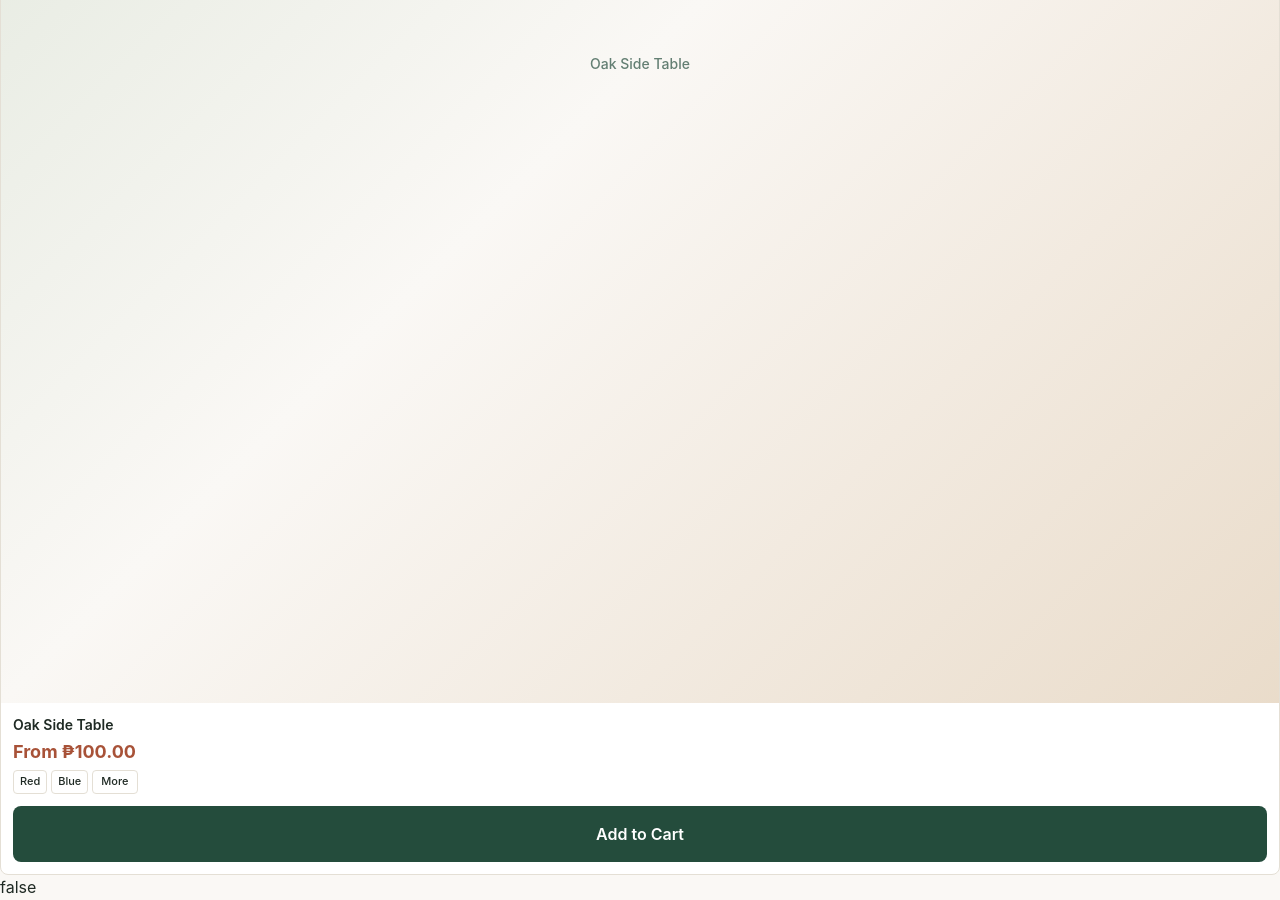
it: ProductCard inline purchase › focuses More when a hidden size still needs selection and adds only the completed SKU
(page scrolled)
Click the button "Blue". click: (70, 782)
box: [51,770,88,794]
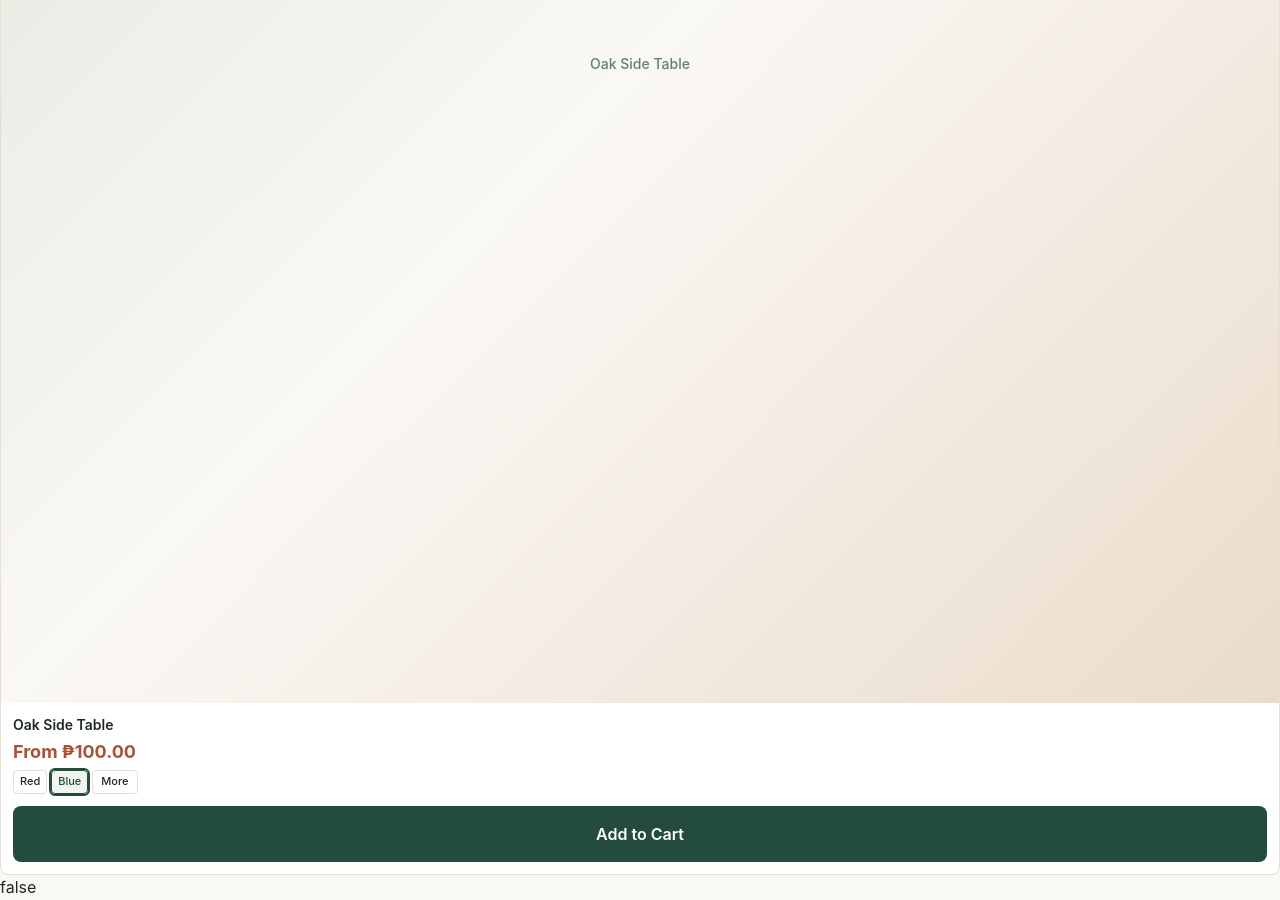
Click the button "Add to Cart". click: (640, 834)
box: [13,806,1267,862]
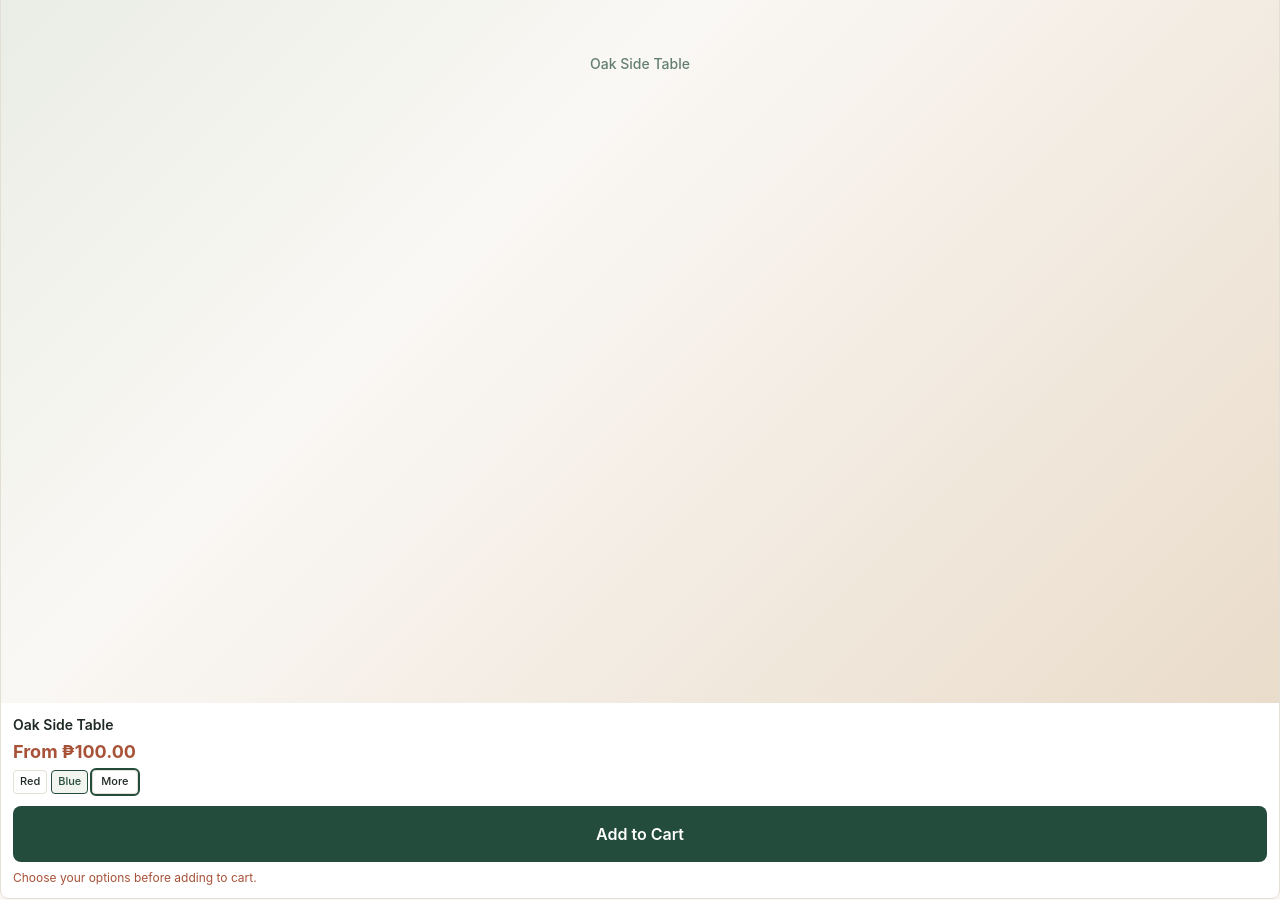
Press Enter
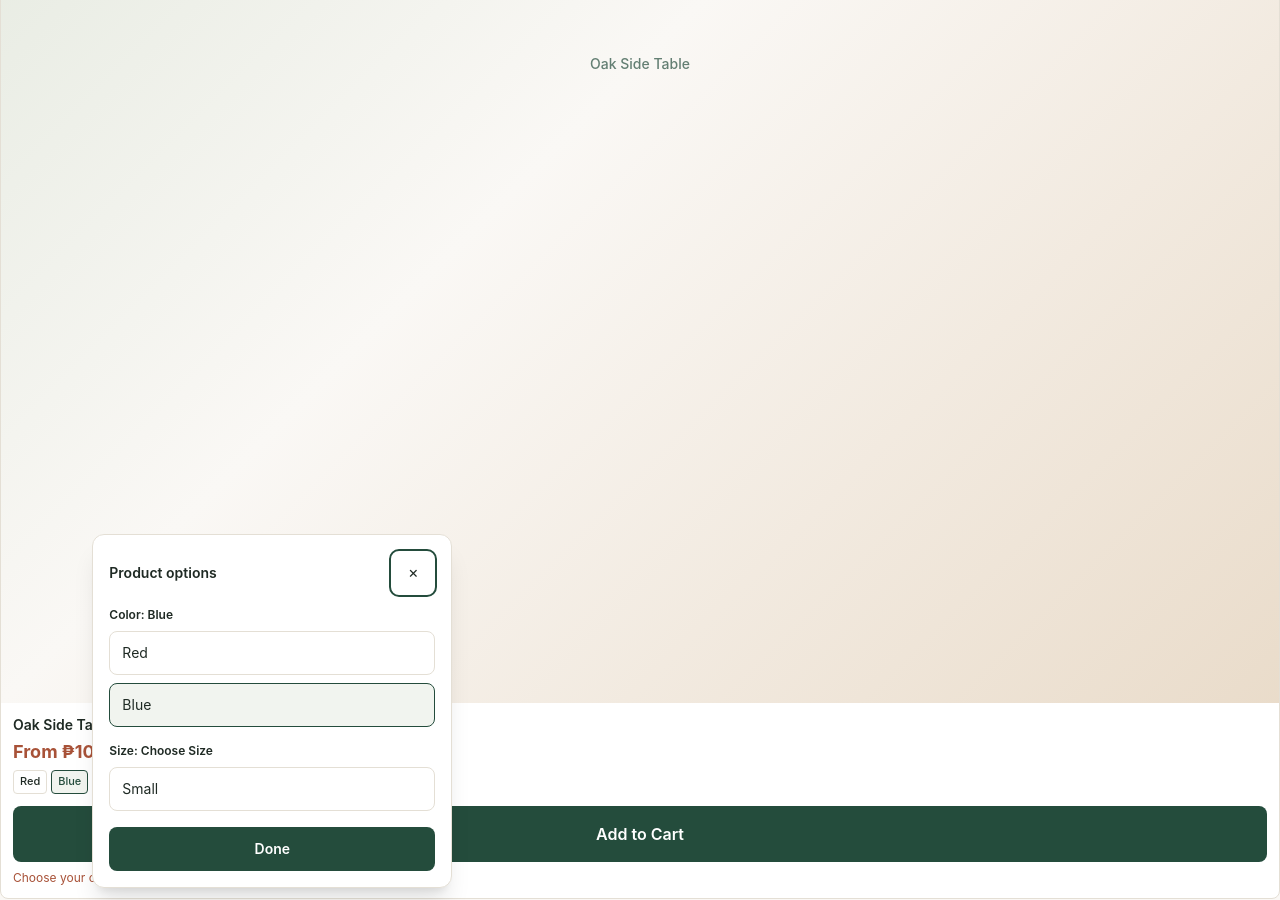
Click the button "Small". click: (140, 788)
box: [109,767,435,811]
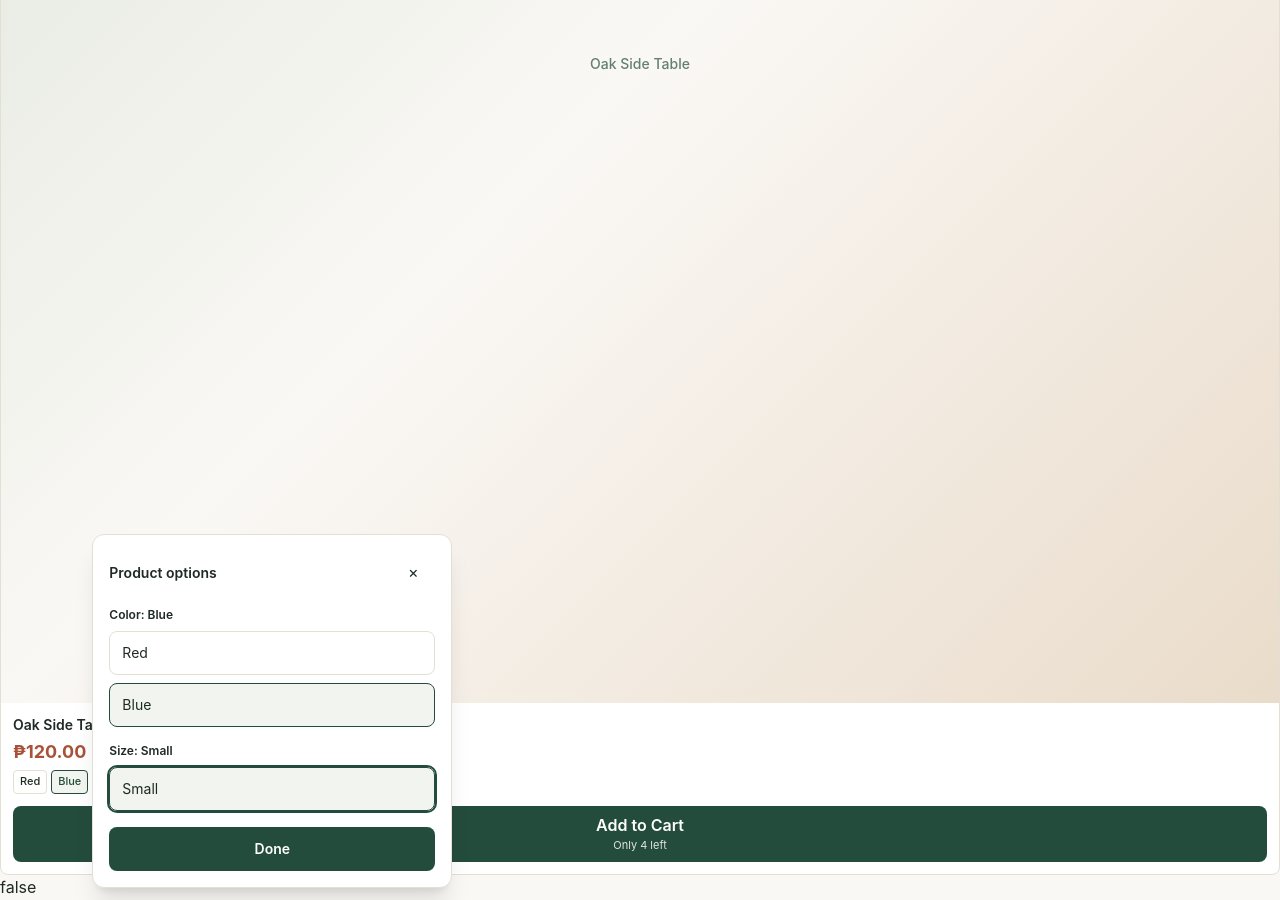
Click the button "Done". click: (272, 849)
box: [109,827,435,871]
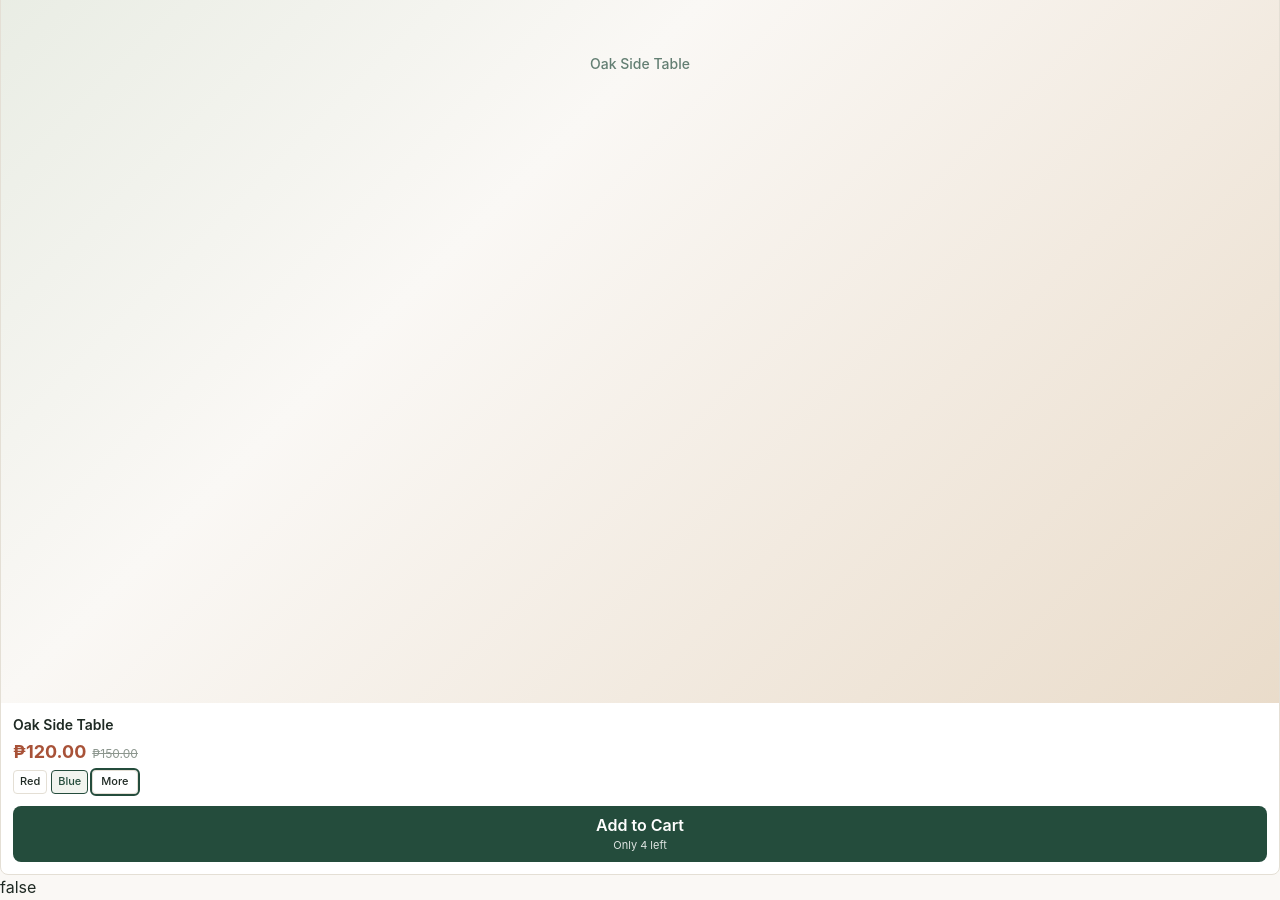
Click the button "Add to Cart Only 4 left". click: (640, 834)
box: [13,806,1267,862]
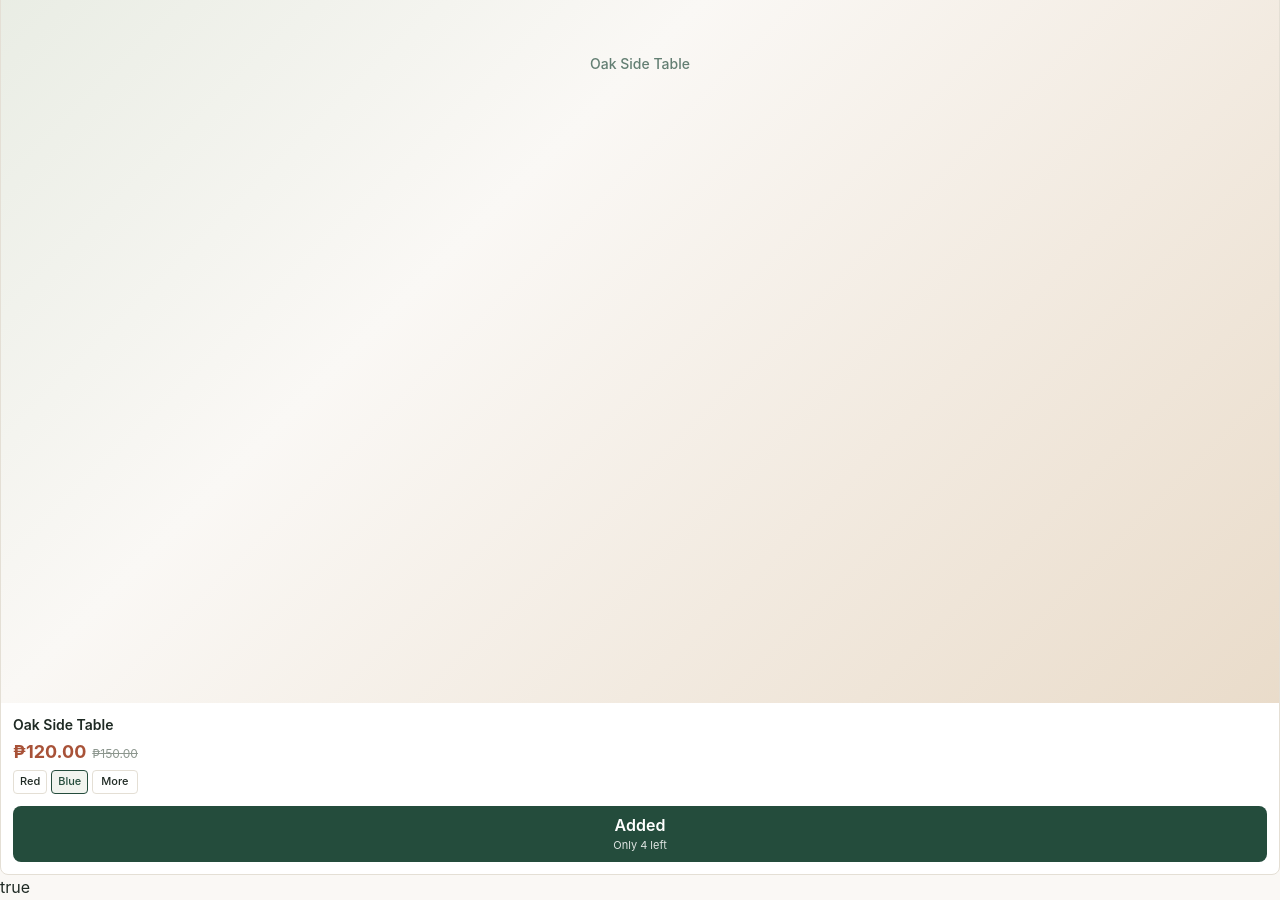
expect the button "Added Only 4 left" is shown: met, box [13,806,1267,862]
